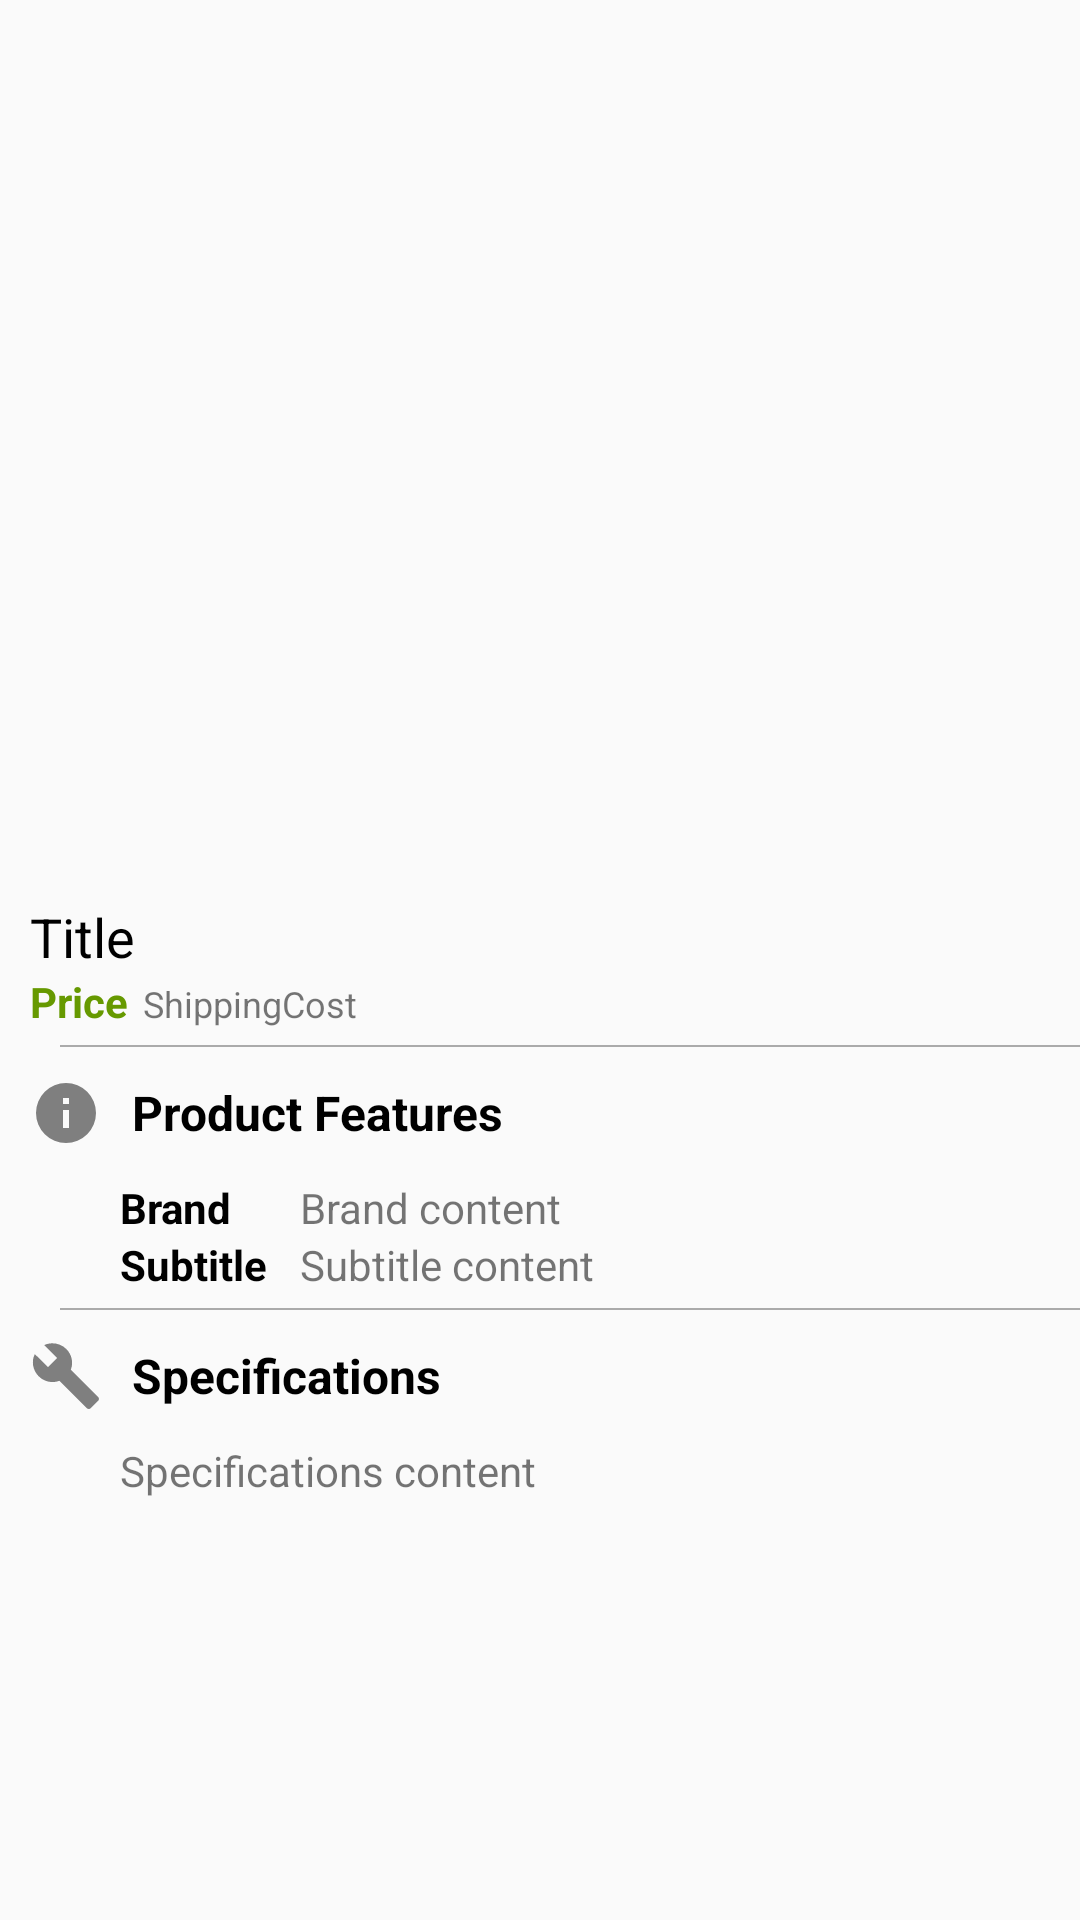

Icons on this 1080*1920 Android screen, each with its box as [x1, y1, x2, y2]:
information: [36, 1083, 96, 1143]
wrench: [33, 1343, 99, 1409]
